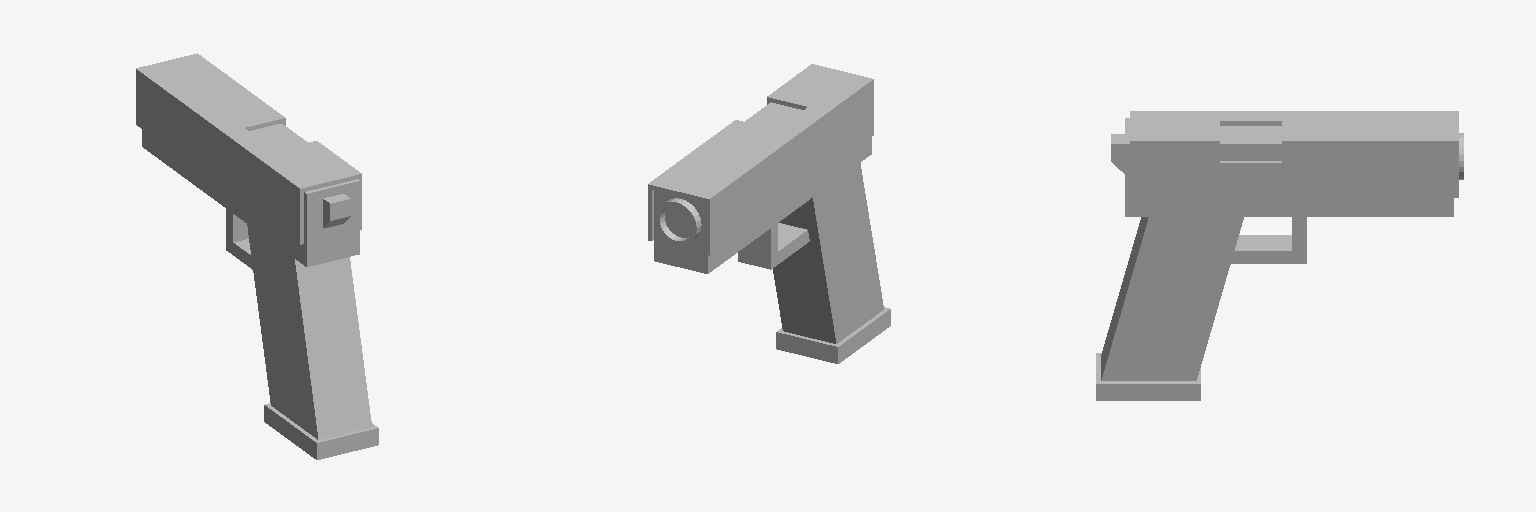
Rendered from pistol.obj.
3 views of the same model, side by side, from view 1: azimuth 30°, elevation 25°; view 2: azimuth 150°, elevation 25°; view 3: azimuth 270°, elevation 25° (orthographic).
Visible parts, largest first — view 1: Group; view 2: Group; view 3: Group.
Boxes of the visible parts, box(x1,y1,x2,y2) form: Group: box(136, 53, 378, 459); Group: box(648, 64, 890, 363); Group: box(1096, 111, 1463, 400).
Bounding box in the file's own units: 0.0574 × 0.2297 × 0.2948.